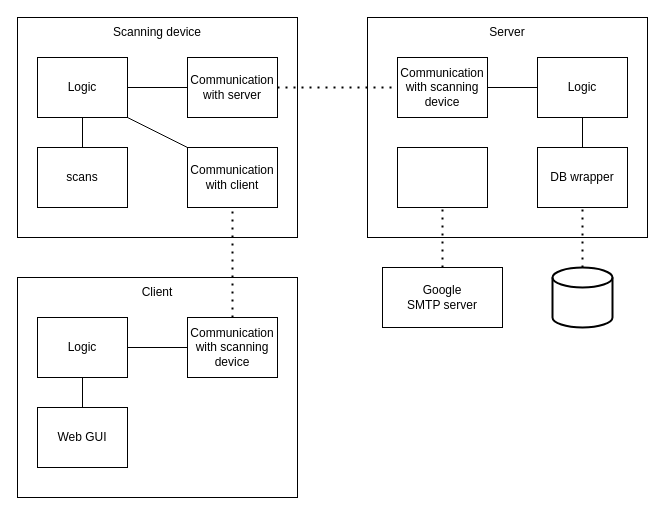
This 665x515 diagram has some shape labels left out. The shapes that lost their labels are listed below. From the top down, each one's box as (x1, y1, x2, y2) in pixels, then its label:
(396, 146, 488, 208): Communication with SMTP server
(551, 266, 613, 328): Database
